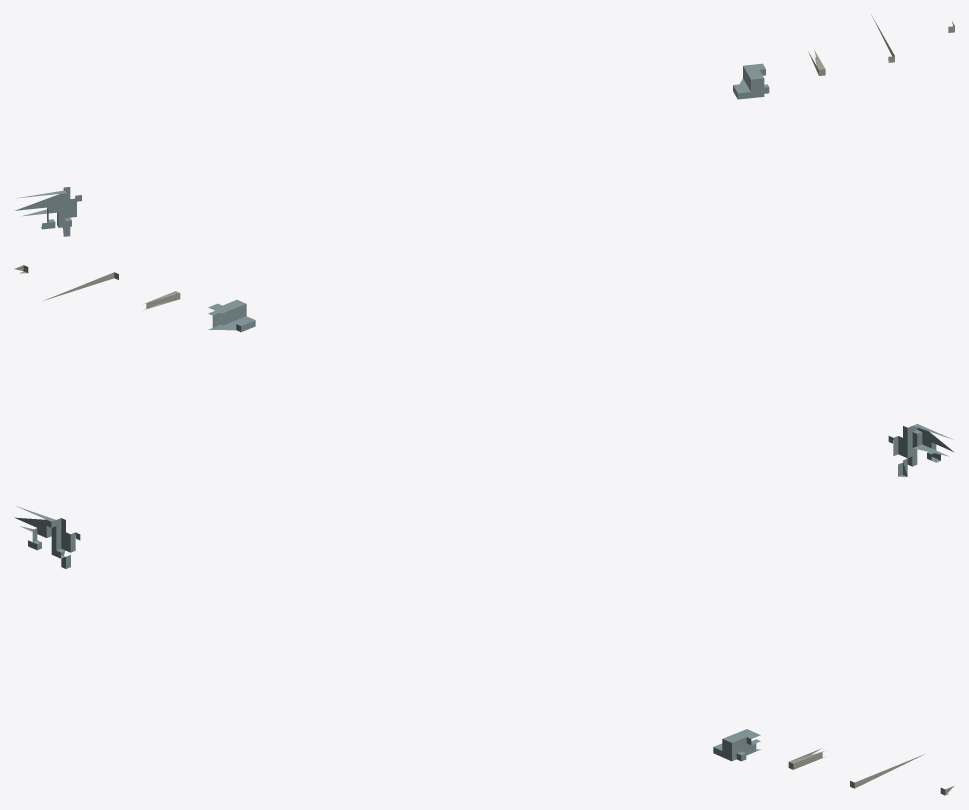
3 renders of one model, top to bottom at view 1: azimuth 30°, elevation 25°; view 2: azimuth 150°, elevation 25°; view 3: azimuth 330°, elevation 25°, orthographic.
Parts seen in each view (by area): view 1: measured-industrial; view 2: measured-industrial; view 3: measured-industrial.
Boxes of the visible parts, box(x1,y1,x2,y2) form: measured-industrial: box(14, 15, 954, 236); measured-industrial: box(14, 265, 953, 476); measured-industrial: box(14, 506, 953, 795).
Bounding box in the file's own units: 240 × 16.35 × 21.59.
